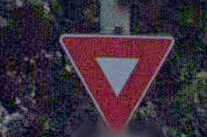cedeaza: (57, 30, 176, 135)
